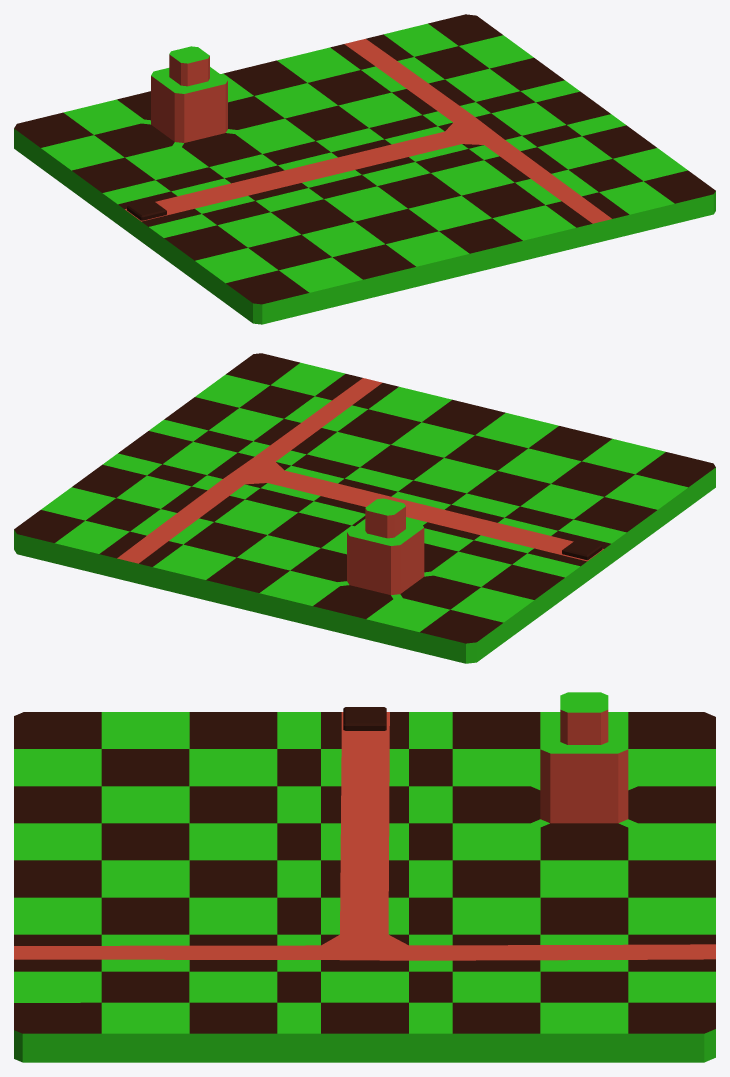
File: StageSentaku.obj
3 renders of one model, top to bottom at view 1: azimuth 30°, elevation 25°; view 2: azimuth 150°, elevation 25°; view 3: azimuth 270°, elevation 25°, orthographic. The views are drawn at different scales.
Visible parts, largest first — view 1: 立方体, 立方体.001; view 2: 立方体, 立方体.001; view 3: 立方体, 立方体.001.
Part boxes in pixels (bbox=[...]): 立方体: bbox=[14, 14, 715, 324]; 立方体.001: bbox=[127, 200, 166, 220]; 立方体: bbox=[14, 353, 715, 663]; 立方体.001: bbox=[562, 539, 602, 560]; 立方体: bbox=[14, 692, 715, 1062]; 立方体.001: bbox=[343, 707, 386, 730].
Size of the model in its own units: 537 by 102 by 495.
